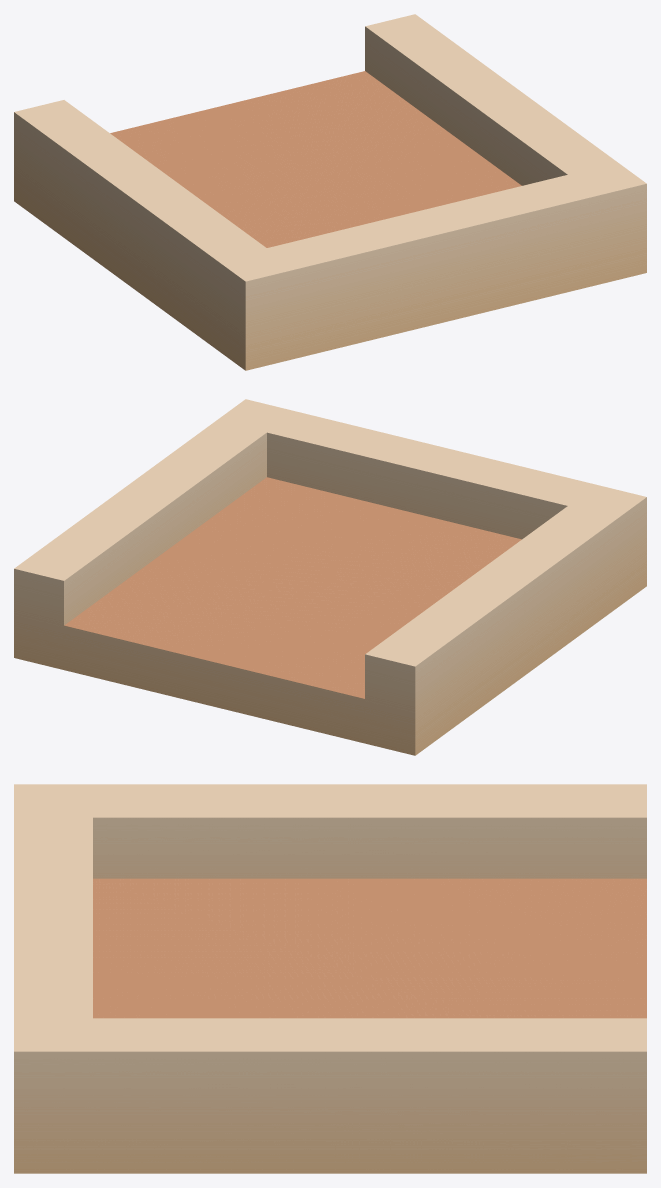
File: kp_mdl_roof_flat_border_end.glb
3 views of the same model, one above another, from view 1: azimuth 30°, elevation 25°; view 2: azimuth 150°, elevation 25°; view 3: azimuth 270°, elevation 25° (orthographic). The views are drawn at different scales.
Parts seen in each view (by area): view 1: roof-flat-border-end; view 2: roof-flat-border-end; view 3: roof-flat-border-end.
Boxes of the visible parts, x1,y1,x2,y2 form: roof-flat-border-end: (14, 14, 646, 370); roof-flat-border-end: (14, 399, 646, 755); roof-flat-border-end: (14, 784, 646, 1173).
Bounding box in the file's own units: 1 × 0.2125 × 1.
Materials: 1 (1 with a texture image).
